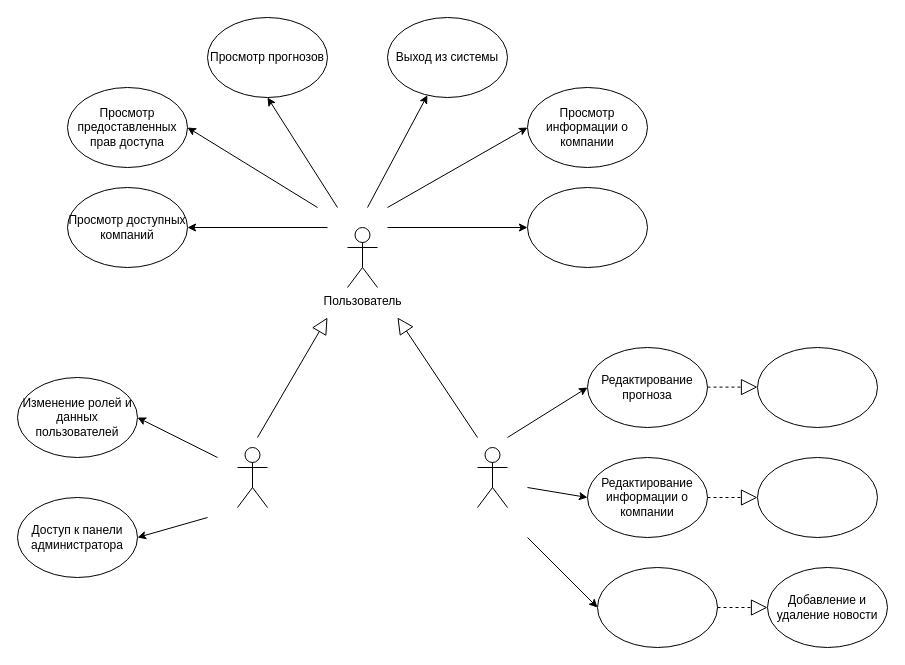
The diagram is 905 pixels wide and 665 high, and some of its shapes have lost their labels. Each missing label, with the centre of its shape:
"Администратор" goes at (x=252, y=477).
"Аналитик" goes at (x=492, y=477).
"Добавление и удаление компании" goes at (x=817, y=497).
"Добавление и удаление прогноза" goes at (x=817, y=387).
"Просмотр новостей о компании" goes at (x=587, y=227).
"Редактирование информации о новостях компании" goes at (x=657, y=607).
